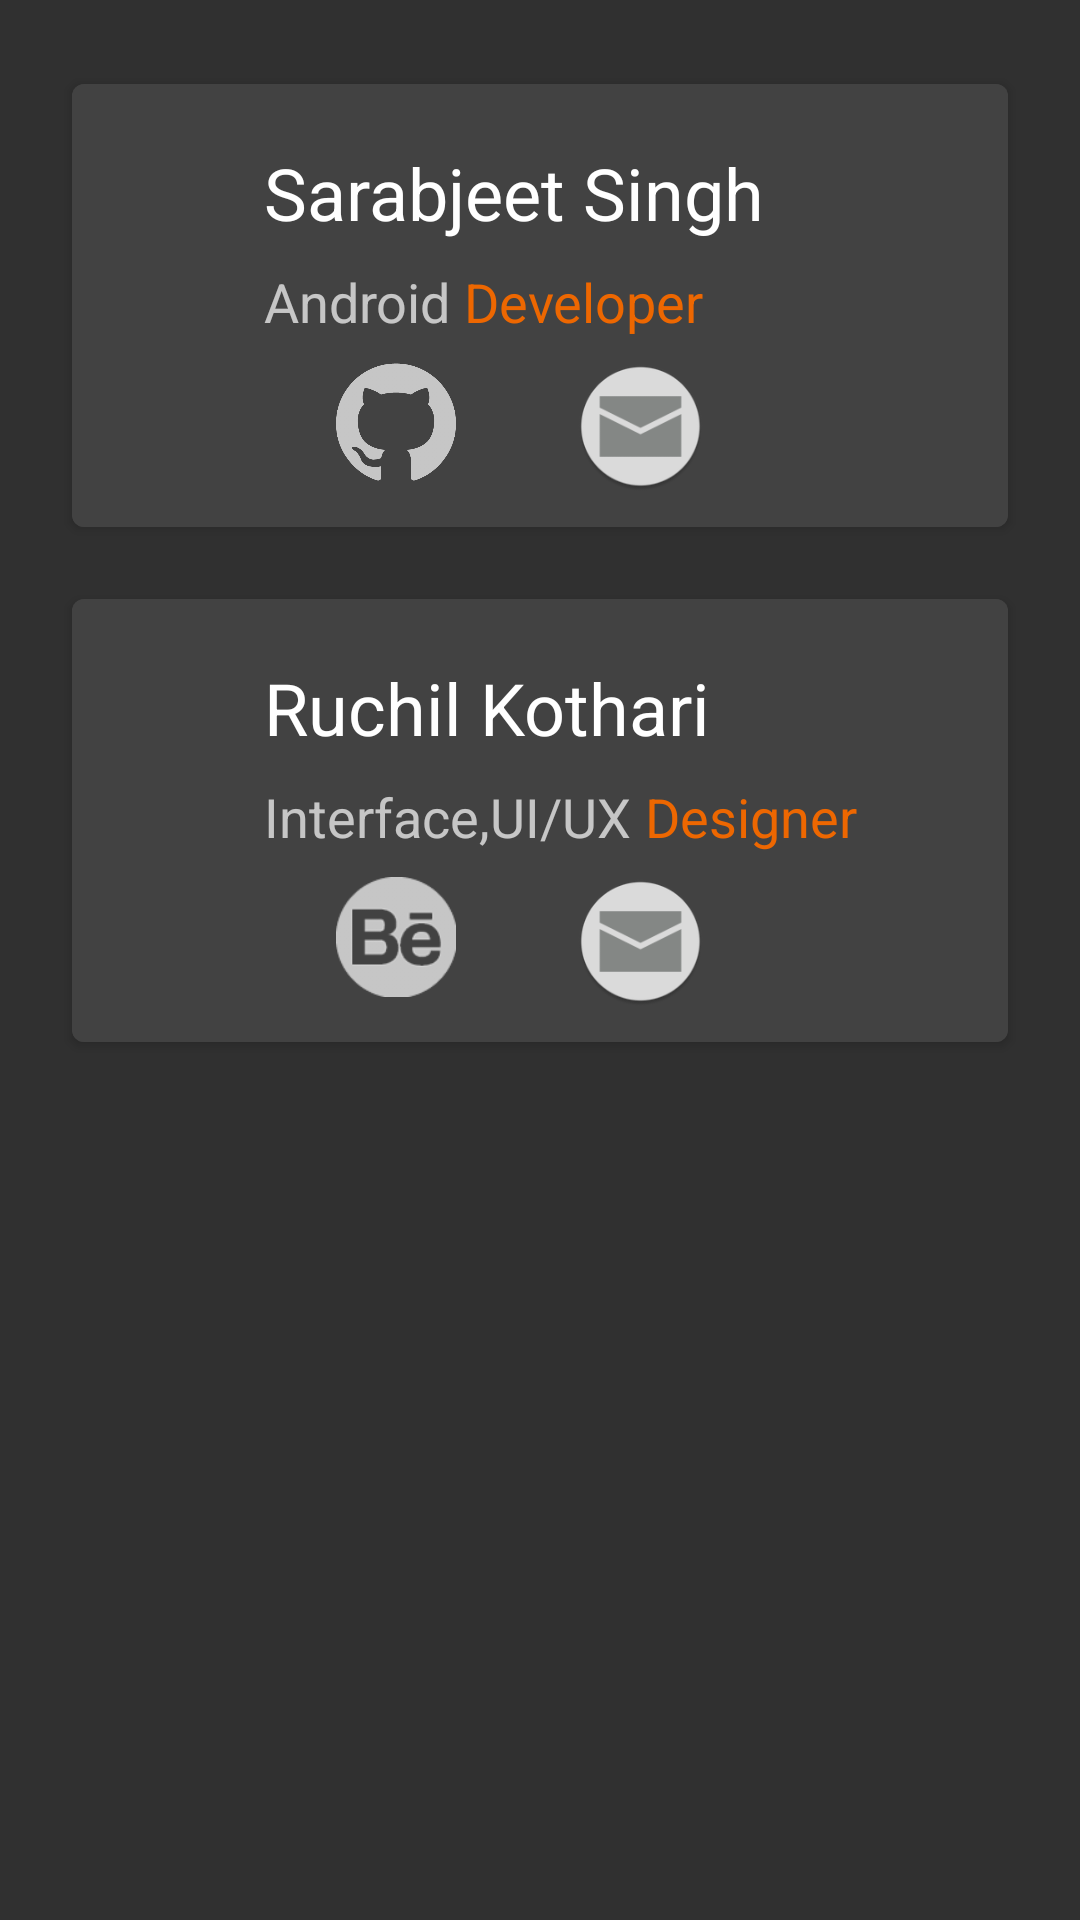

Named icons in this screenshot (1080x1920) and their bounding boxes, (x1, y1, x2, y2):
message: (581, 367, 700, 486), (581, 882, 700, 1001)
